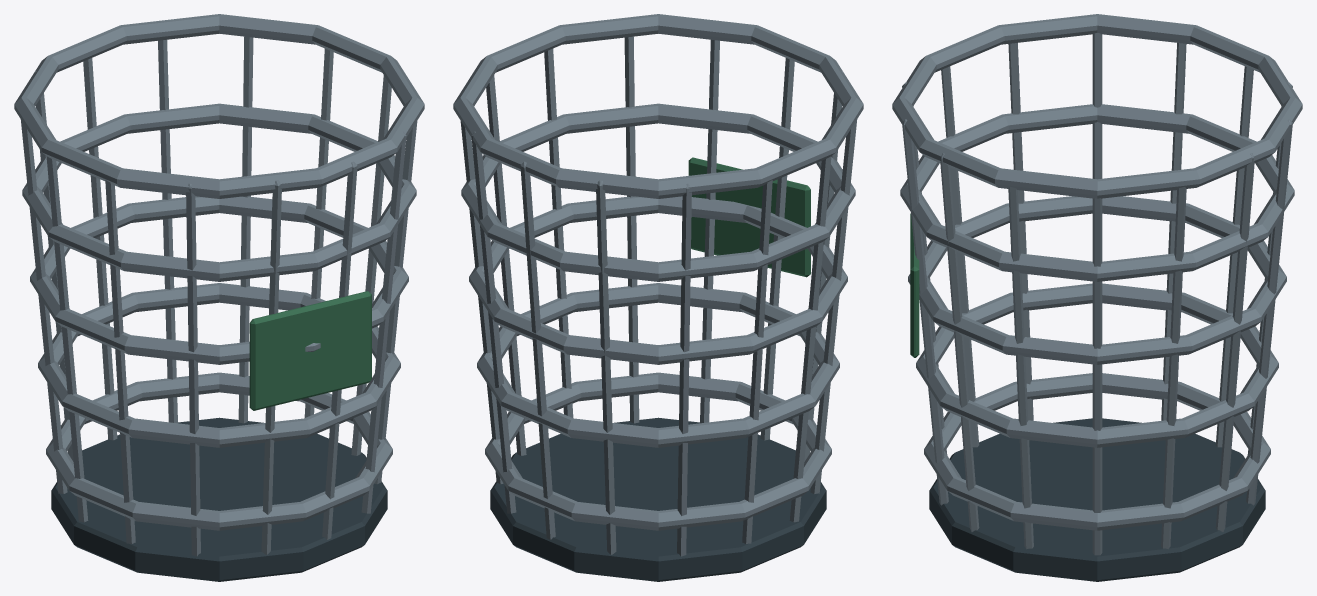
Rendered from b04_wire_mesh_street_basket.glb.
3 views of the same model, side by side, from view 1: azimuth 30°, elevation 25°; view 2: azimuth 150°, elevation 25°; view 3: azimuth 270°, elevation 25° (orthographic).
Visible parts, largest first — view 1: b04_wire_mesh_street_basket; view 2: b04_wire_mesh_street_basket; view 3: b04_wire_mesh_street_basket.
Boxes of the visible parts, box(x1,y1,x2,y2) form: b04_wire_mesh_street_basket: box(14, 14, 424, 581); b04_wire_mesh_street_basket: box(453, 14, 863, 581); b04_wire_mesh_street_basket: box(892, 14, 1302, 581).
Size of the model in its own units: 0.733 by 0.8173 by 0.733.
